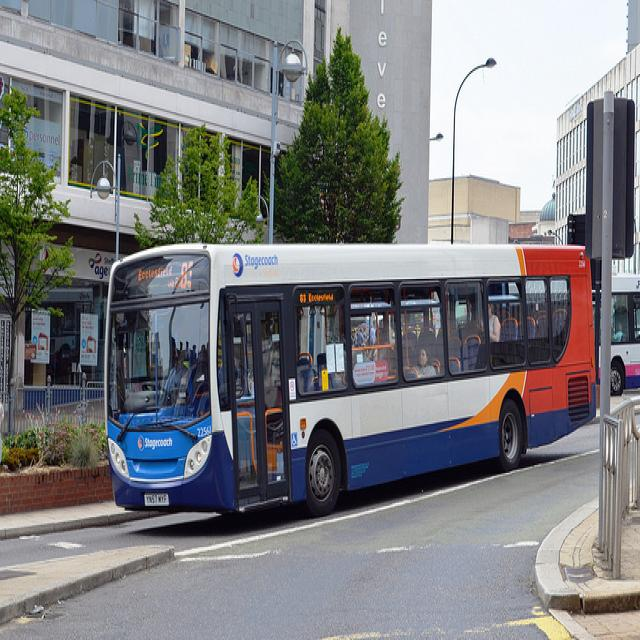Vehicle: (106, 244, 597, 513), (609, 275, 640, 396)
